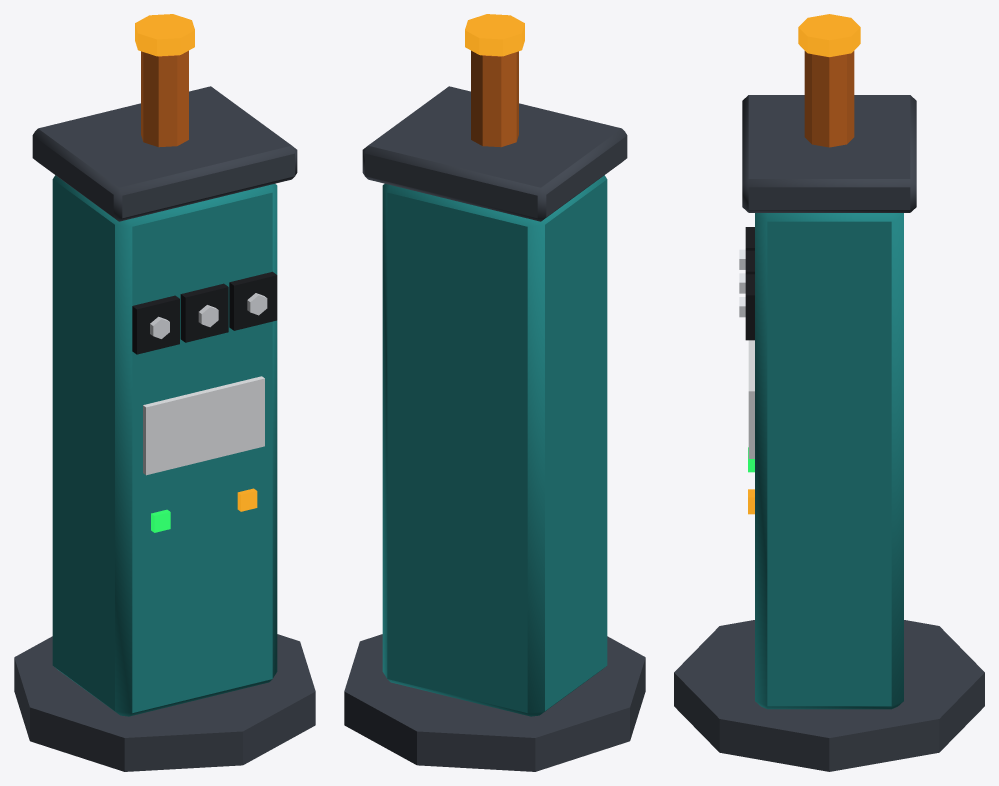
Rendered from junction_service_pedestal.glb.
The picture shows the model from 3 angles, left to right: view 1: azimuth 30°, elevation 25°; view 2: azimuth 150°, elevation 25°; view 3: azimuth 270°, elevation 25°; orthographic projection.
Parts seen in each view (by area): view 1: junction_service_pedestal; view 2: junction_service_pedestal; view 3: junction_service_pedestal.
Part boxes in pixels (x1=…): junction_service_pedestal: x1=14, y1=14, x2=315, y2=771; junction_service_pedestal: x1=344, y1=14, x2=645, y2=771; junction_service_pedestal: x1=674, y1=14, x2=984, y2=771.
Size of the model in its own units: 0.5 by 1.21 by 0.5.
